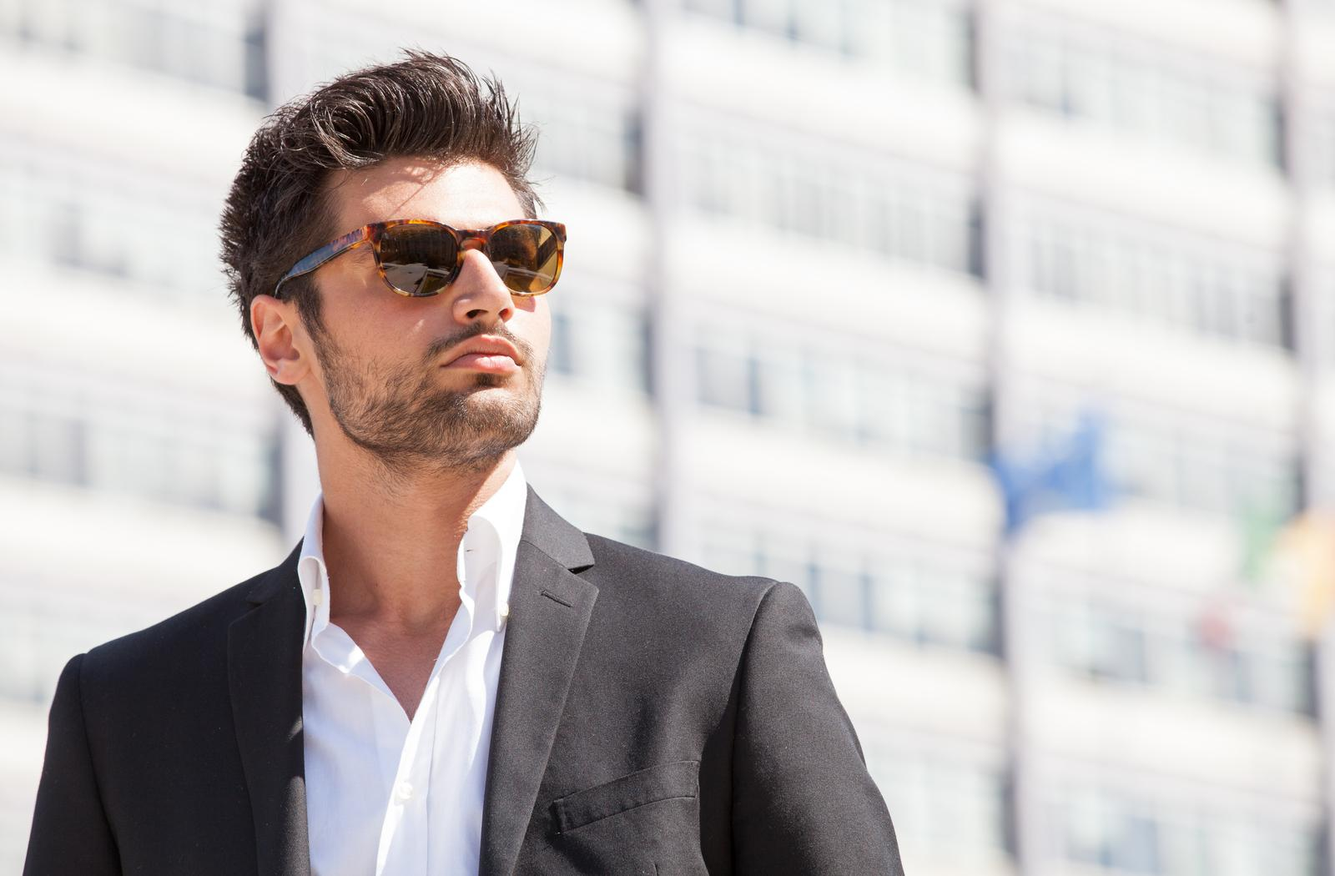sunglasses: (292, 199, 576, 313)
